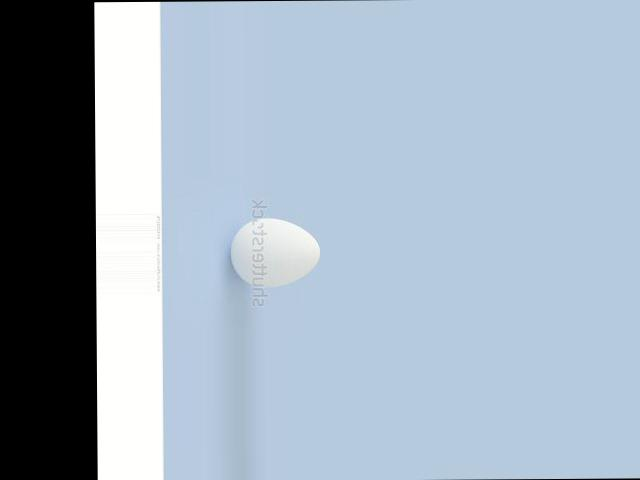egg: (229, 217, 319, 287)
